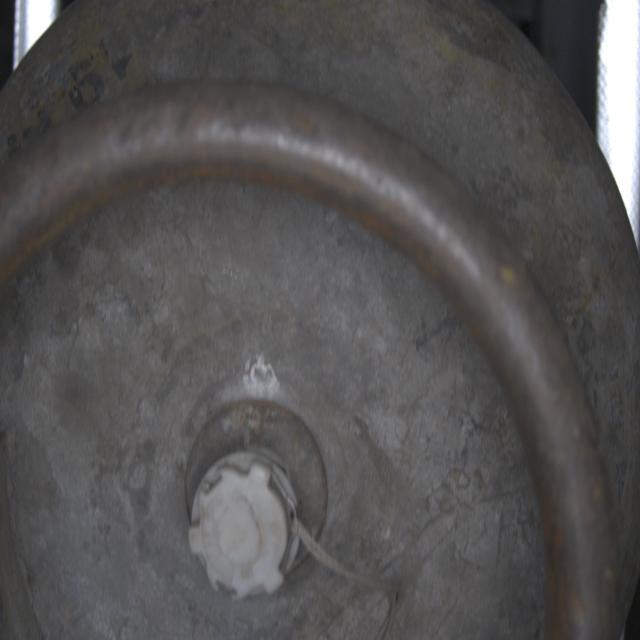Cap: (189, 448, 308, 600)
